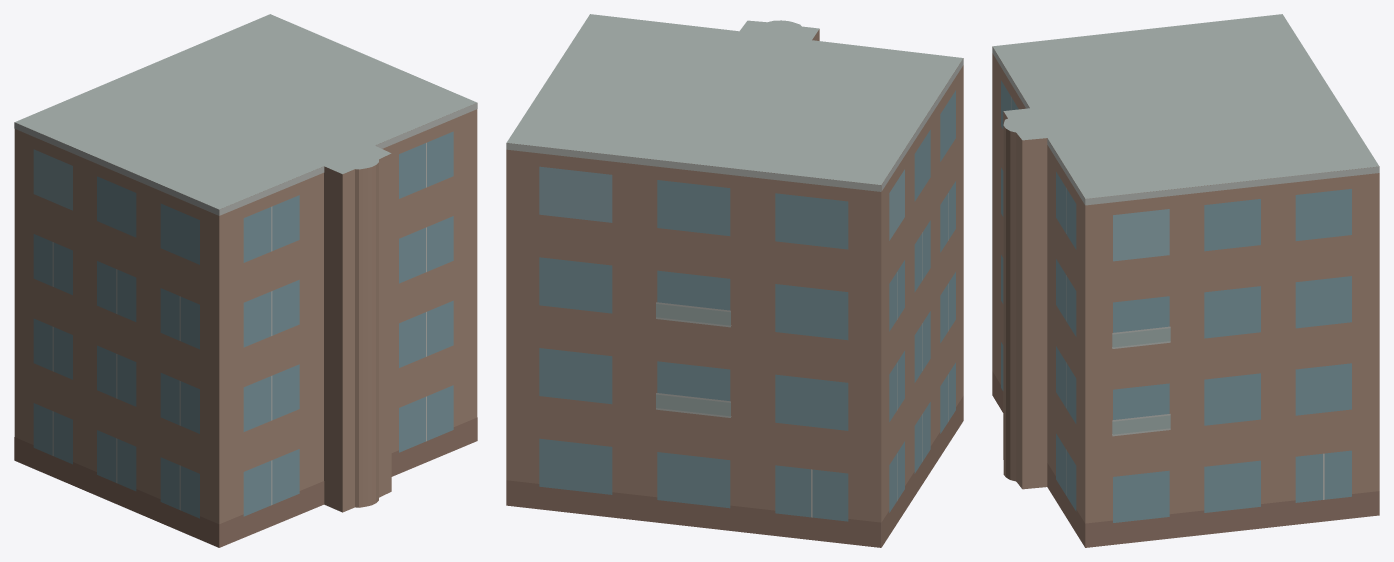
File: survey-upis-32914777.glb
3 views of the same model, side by side, from view 1: azimuth 30°, elevation 25°; view 2: azimuth 150°, elevation 25°; view 3: azimuth 270°, elevation 25° (orthographic). The views are drawn at different scales.
Visible parts, largest first — view 1: survey-upis-32914777.tmp; view 2: survey-upis-32914777.tmp; view 3: survey-upis-32914777.tmp.
Boxes of the visible parts, x1,y1,x2,y2 form: survey-upis-32914777.tmp: [14, 14, 477, 547]; survey-upis-32914777.tmp: [506, 14, 963, 547]; survey-upis-32914777.tmp: [992, 14, 1379, 547].
Bounding box in the file's own units: 14.72 × 12.95 × 13.03.
